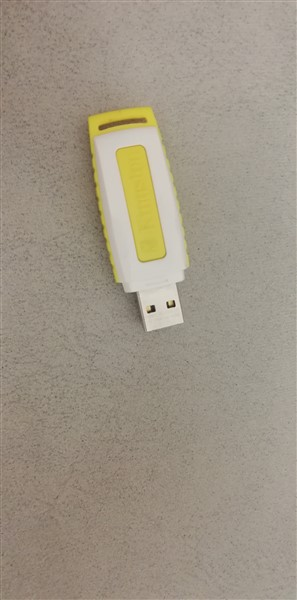flash disk: (81, 95, 202, 338)
